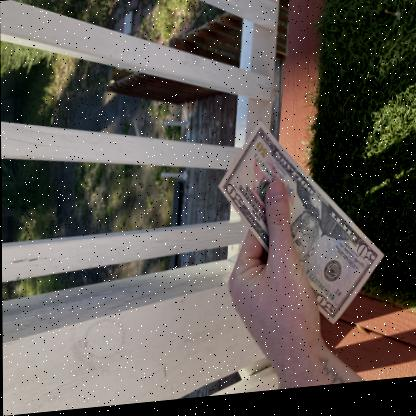fifty-front: (215, 131, 381, 325)
